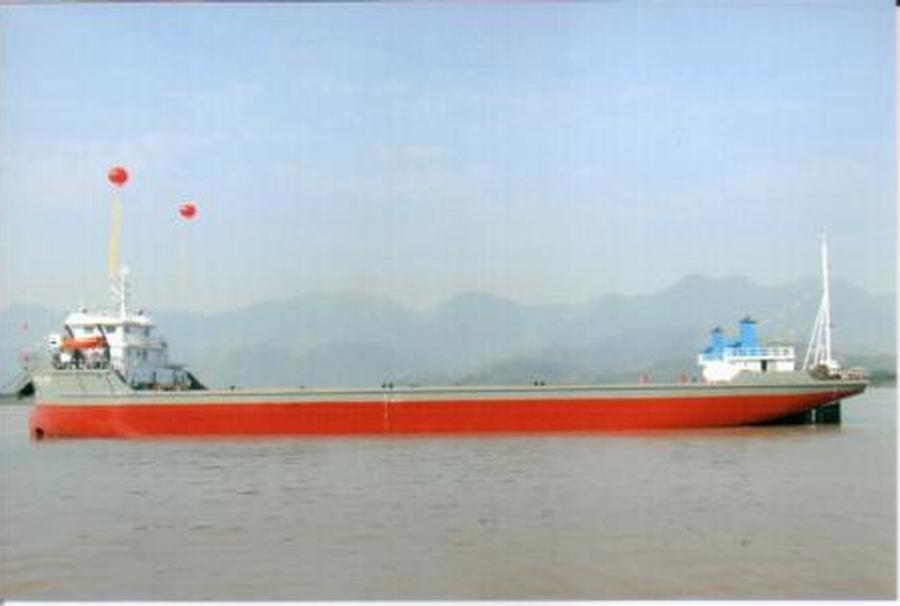Cargoship: (19, 229, 869, 455)
